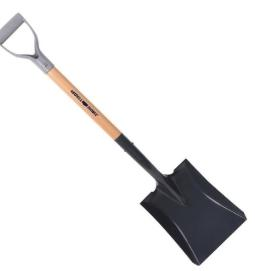PELLE: (0, 0, 251, 271)
